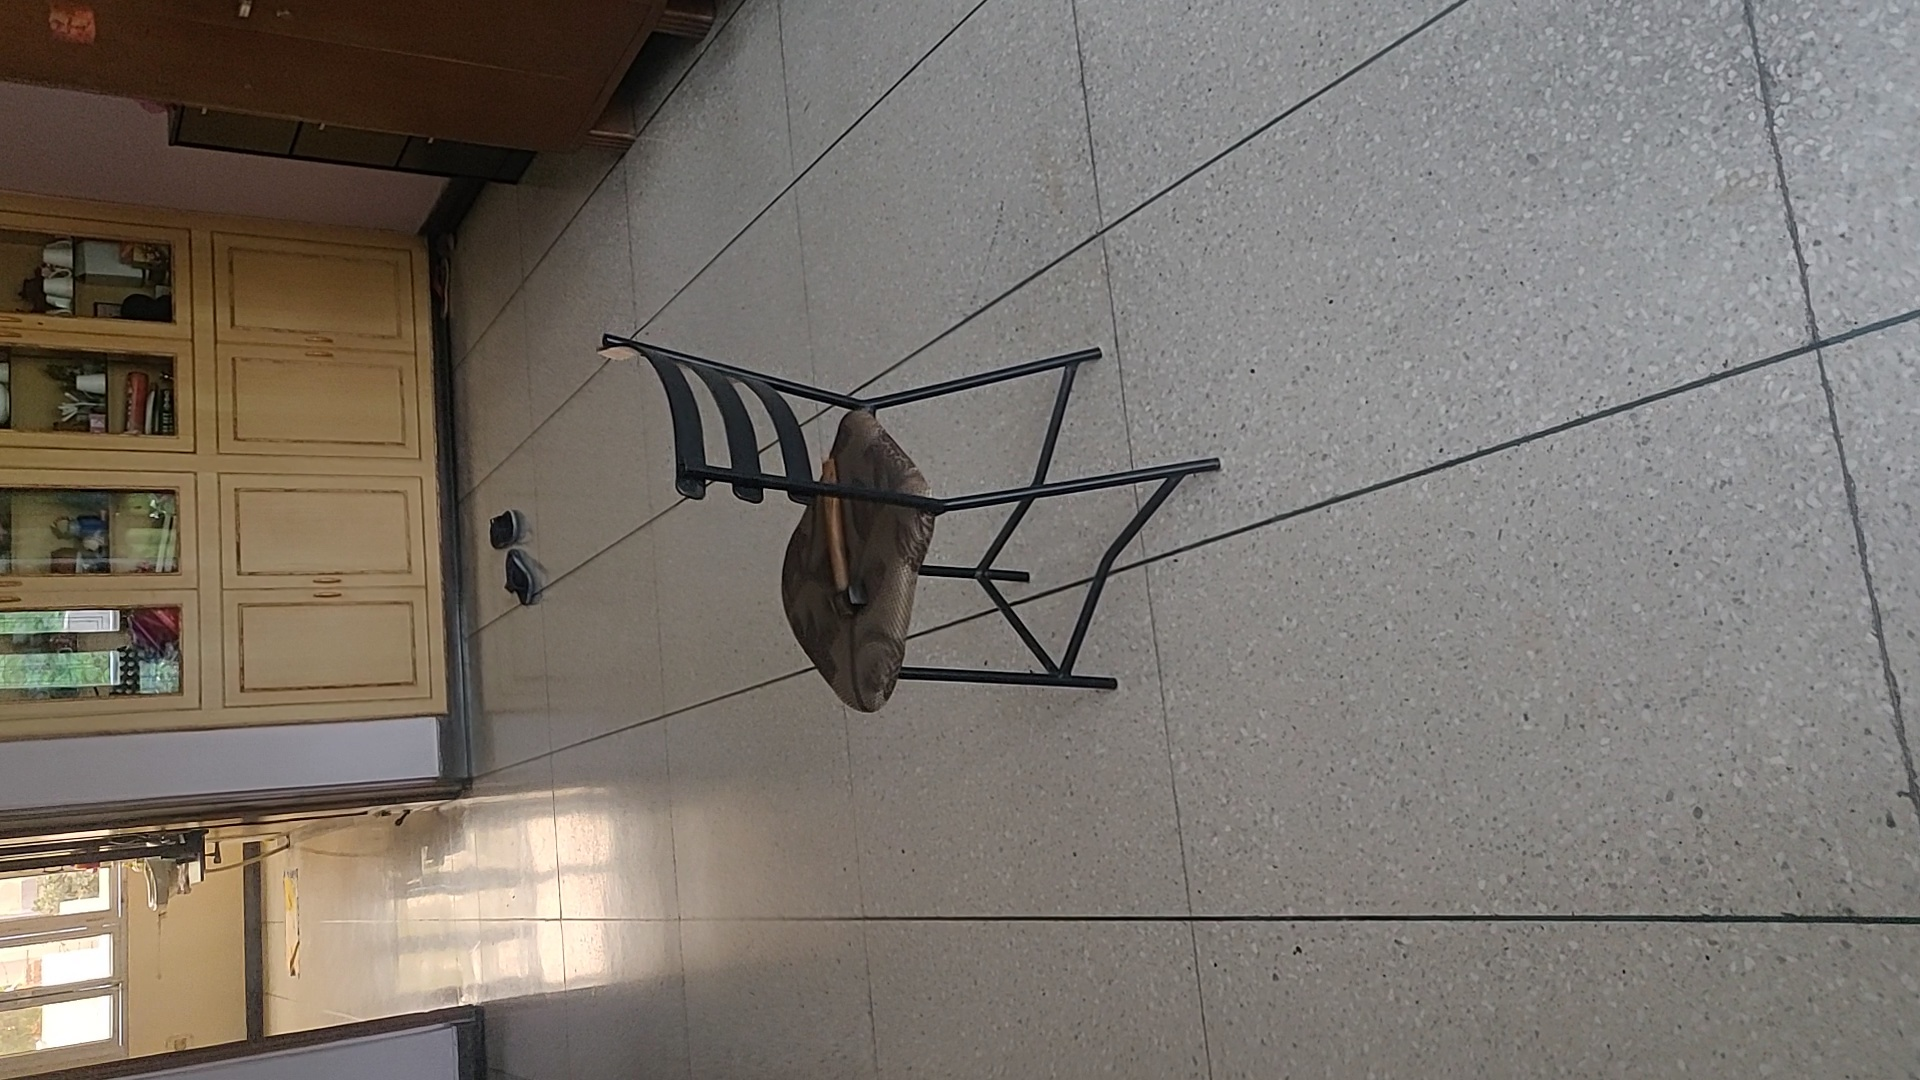hammer: (819, 458, 866, 621)
